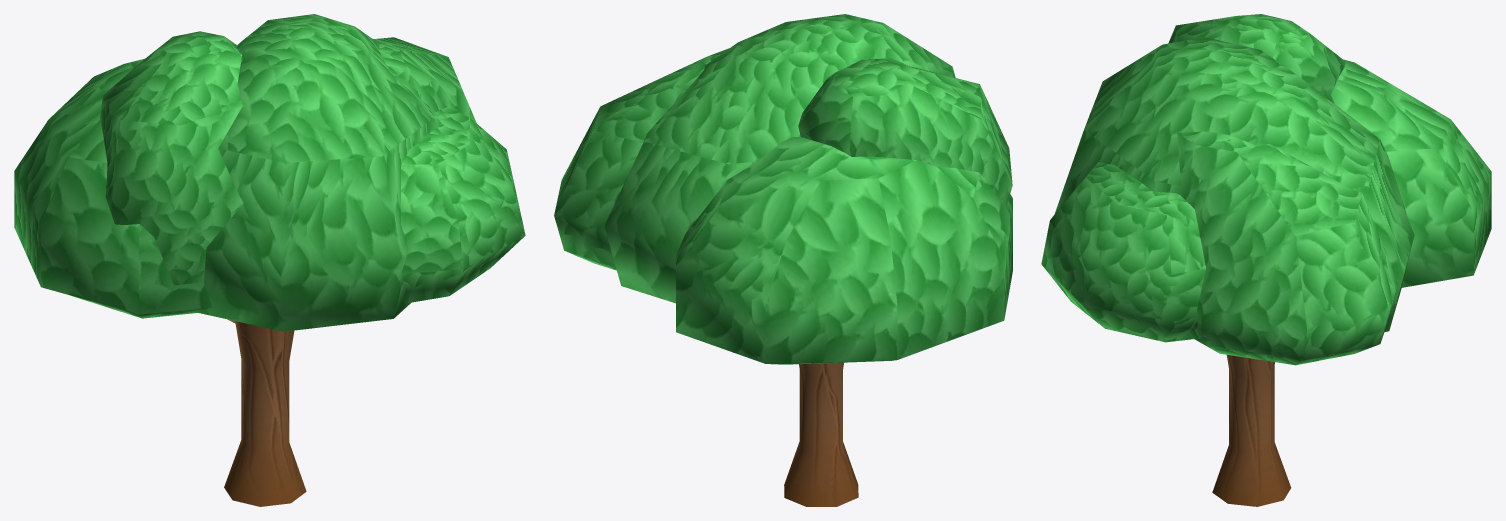
File: french_tree_01.glb
3 renders of one model, left to right at view 1: azimuth 30°, elevation 25°; view 2: azimuth 150°, elevation 25°; view 3: azimuth 270°, elevation 25°, orthographic. The views are drawn at different scales.
Parts seen in each view (by area): view 1: polySurface239; view 2: polySurface239; view 3: polySurface239.
Part boxes in pixels (x1,y1,x2,y2): polySurface239: [14, 14, 525, 506]; polySurface239: [554, 14, 1012, 506]; polySurface239: [1041, 14, 1491, 506].
Bounding box in the file's own units: 5.28 × 5.24 × 4.79.
1 material, 1 textured.
